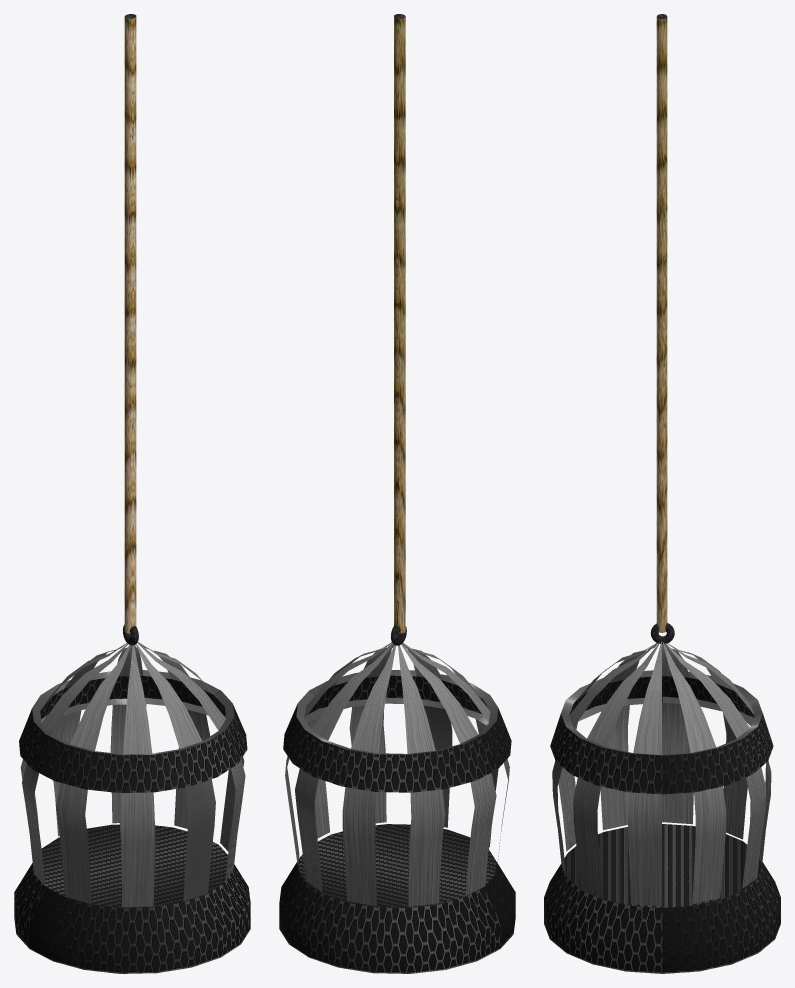
Rendered from jaula.obj.
3 renders of one model, left to right at view 1: azimuth 30°, elevation 25°; view 2: azimuth 150°, elevation 25°; view 3: azimuth 270°, elevation 25°, orthographic.
Parts seen in each view (by area): view 1: polySurface3; view 2: polySurface3; view 3: polySurface3.
Part boxes in pixels (<box>): polySurface3: <box>14,14,250,973</box>; polySurface3: <box>279,14,515,973</box>; polySurface3: <box>544,14,780,973</box>.
Bounding box in the file's own units: 2.66 × 11.22 × 2.66.
4 materials, 4 textured.
